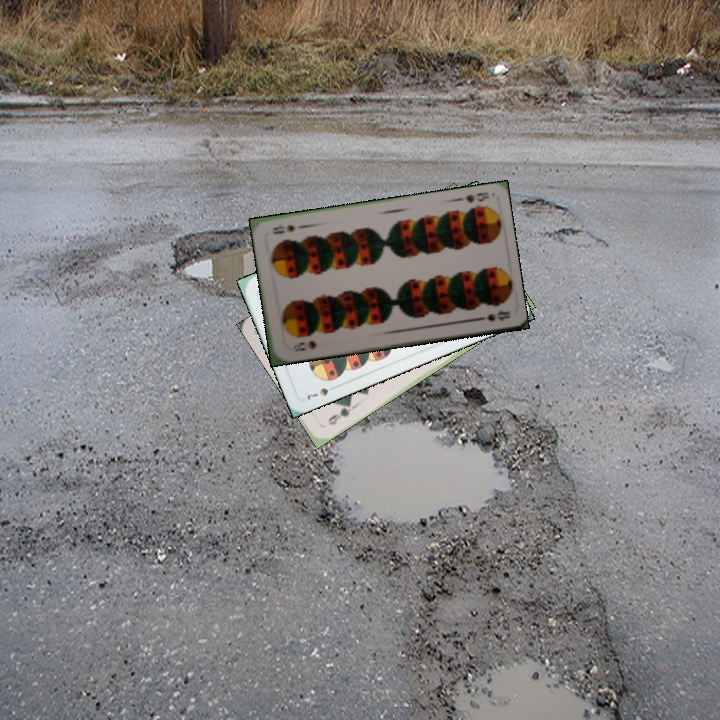G9: (324, 399, 357, 428)
S7: (303, 384, 331, 402)
S8: (461, 188, 491, 205), (291, 336, 319, 354)
